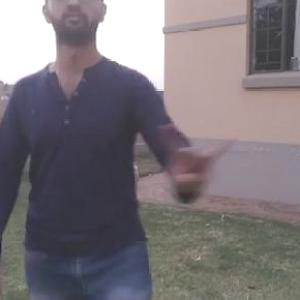takeoff-hand: (174, 123, 241, 204)
